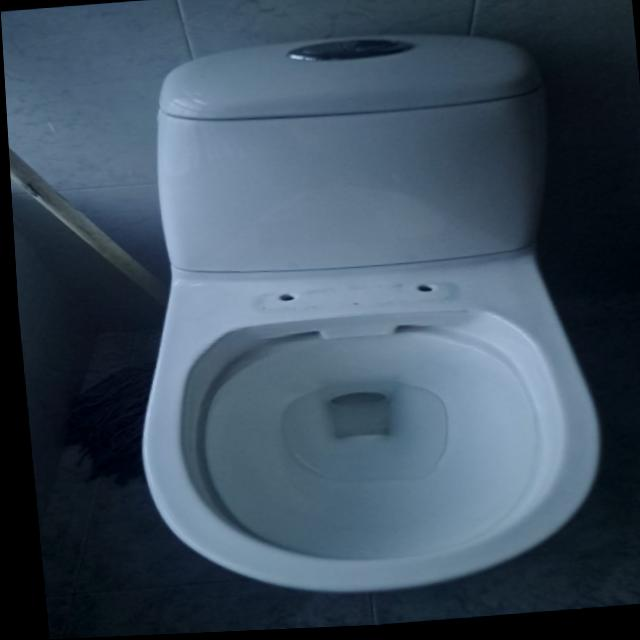toilet: (101, 23, 608, 611)
